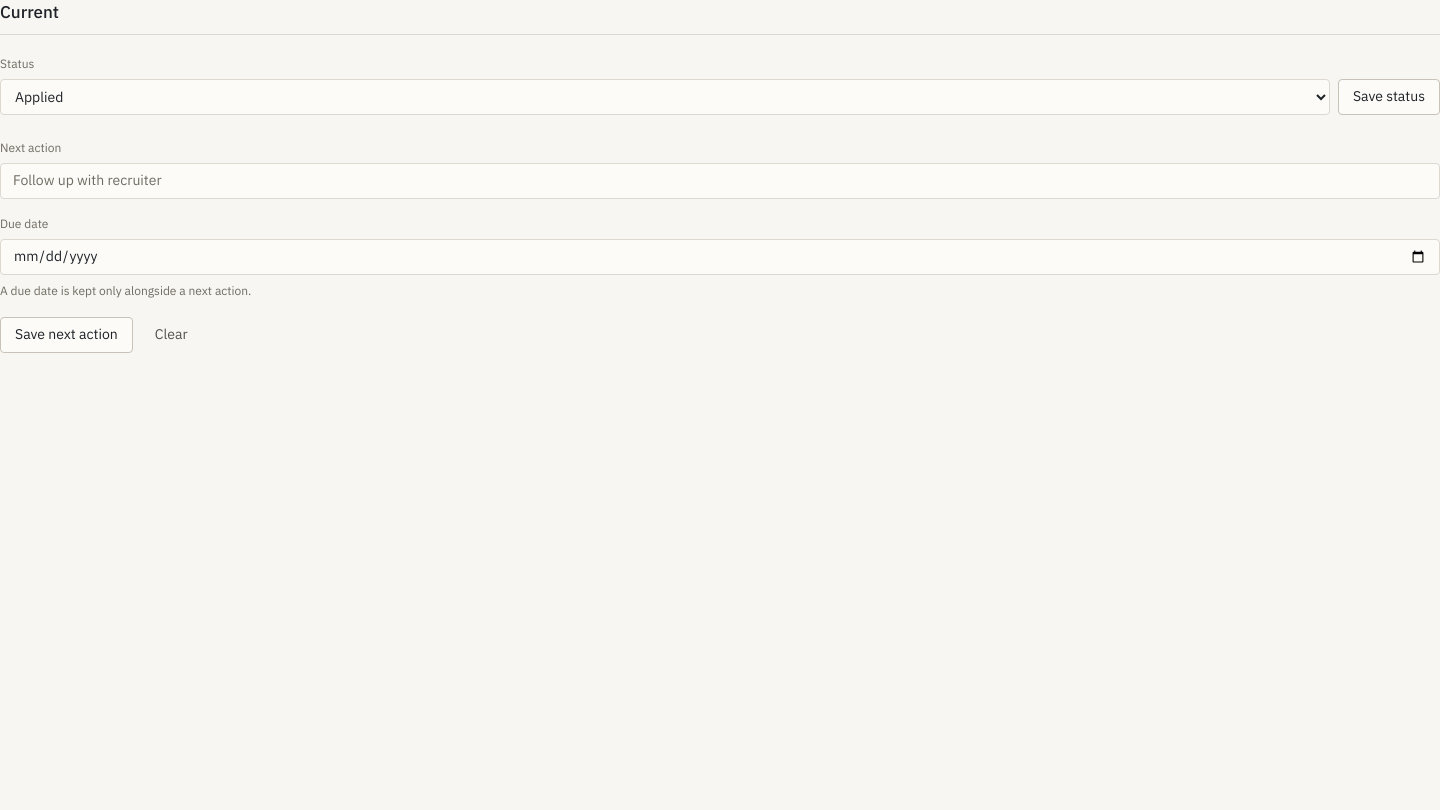
it: an unusual status change is confirmed before it saves › pauses on Applied to Interested rather than saving right away
The image size is (1440, 810).
Select "Interested" in the dropdown labelled "Status" at (665, 96), box top-left (0, 78), bottom-right (1330, 114)
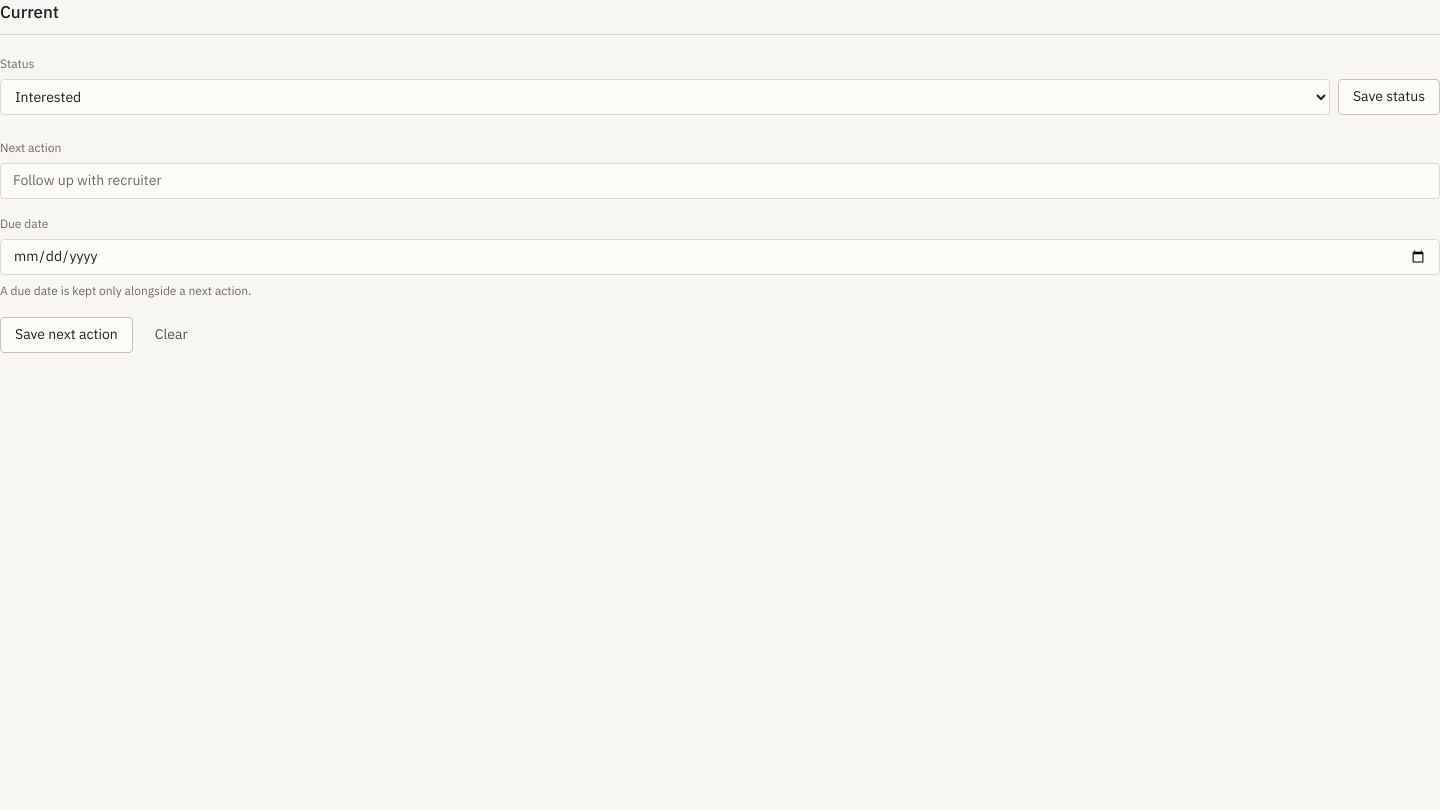
Click the button "Save status" at (1389, 96), box top-left (1338, 78), bottom-right (1439, 114)
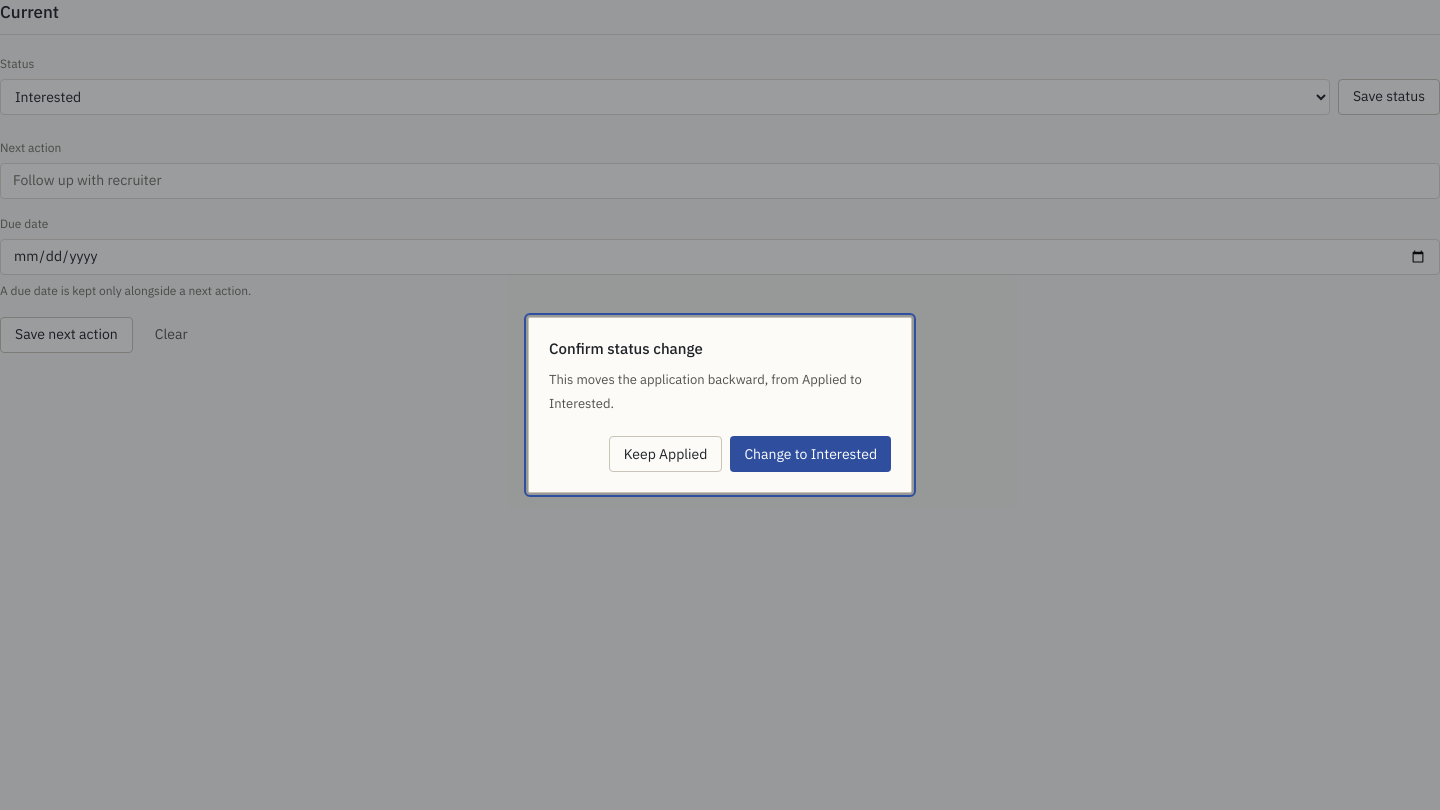
Check: the dialog "Confirm status change" shows "This moves the application backward, from Applied to Interested.", box top-left (549, 371), bottom-right (862, 412)
